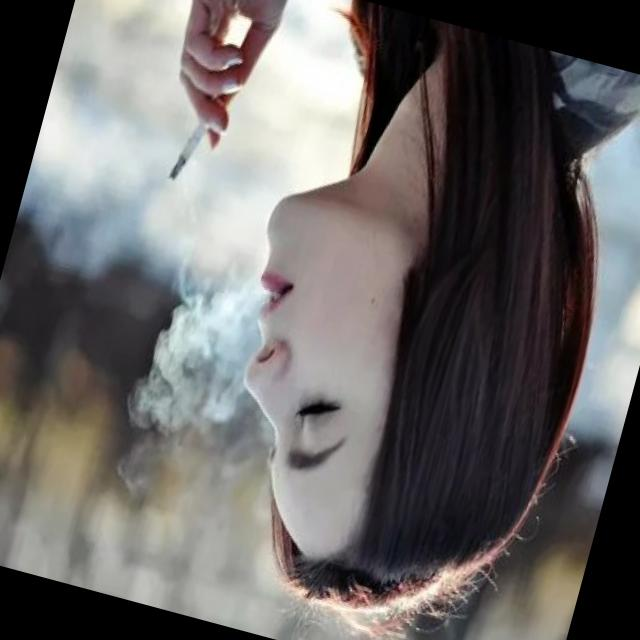cigarette: (160, 110, 222, 198)
